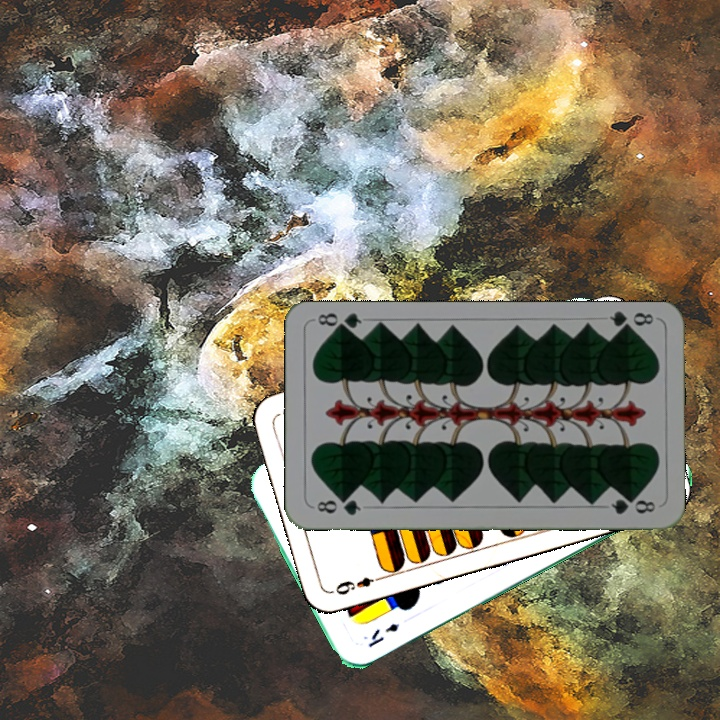E9: (329, 572, 387, 598)
EK: (364, 619, 402, 650)
G8: (606, 308, 656, 335), (313, 494, 364, 518)
